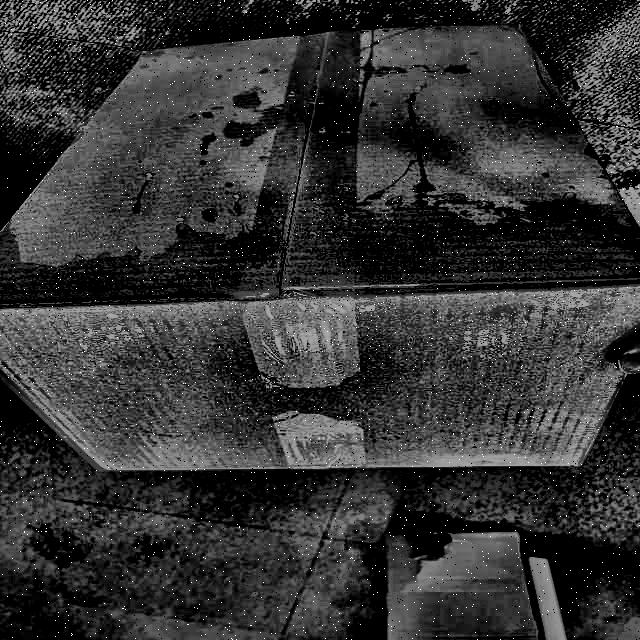box: (1, 19, 640, 479)
hole: (393, 526, 453, 568)
wet: (0, 223, 640, 464)
